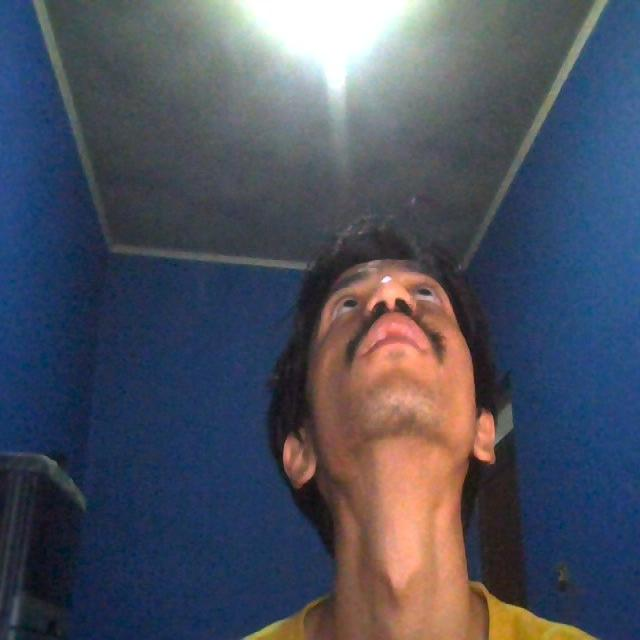Melihat keatas: (250, 245, 536, 547)
